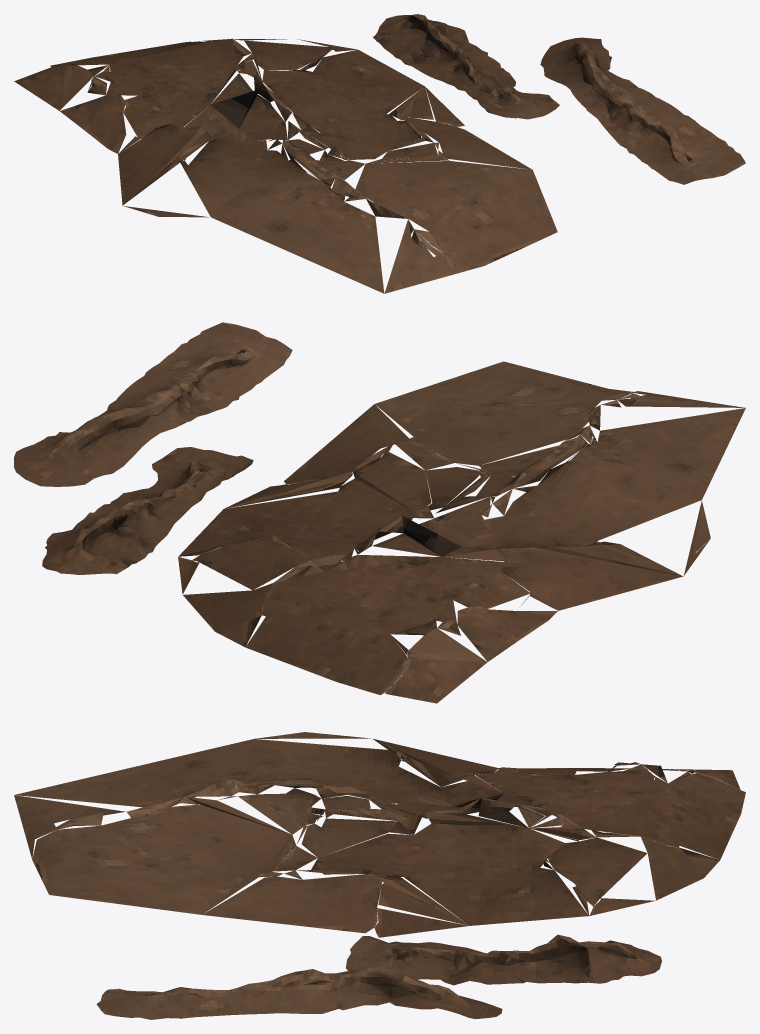
Rendered from root_cluster_02.glb.
3 views of the same model, one above another, from view 1: azimuth 30°, elevation 25°; view 2: azimuth 150°, elevation 25°; view 3: azimuth 270°, elevation 25° (orthographic). The views are drawn at different scales.
Parts seen in each view (by area): view 1: root_cluster_02_a, root_cluster_02_f, root_cluster_02_d; view 2: root_cluster_02_a, root_cluster_02_f, root_cluster_02_d; view 3: root_cluster_02_a, root_cluster_02_f, root_cluster_02_d.
Part boxes in pixels (<box>): root_cluster_02_a: <box>14,38,557,293</box>; root_cluster_02_f: <box>540,37,745,184</box>; root_cluster_02_d: <box>373,14,559,119</box>; root_cluster_02_a: <box>178,361,745,703</box>; root_cluster_02_f: <box>14,322,292,486</box>; root_cluster_02_d: <box>42,447,253,574</box>; root_cluster_02_a: <box>14,732,745,937</box>; root_cluster_02_f: <box>96,967,502,1019</box>; root_cluster_02_d: <box>346,934,661,985</box>.
Bounding box in the file's own units: 2.11 × 0.1893 × 2.25.
Materials: 1 (1 with a texture image).
